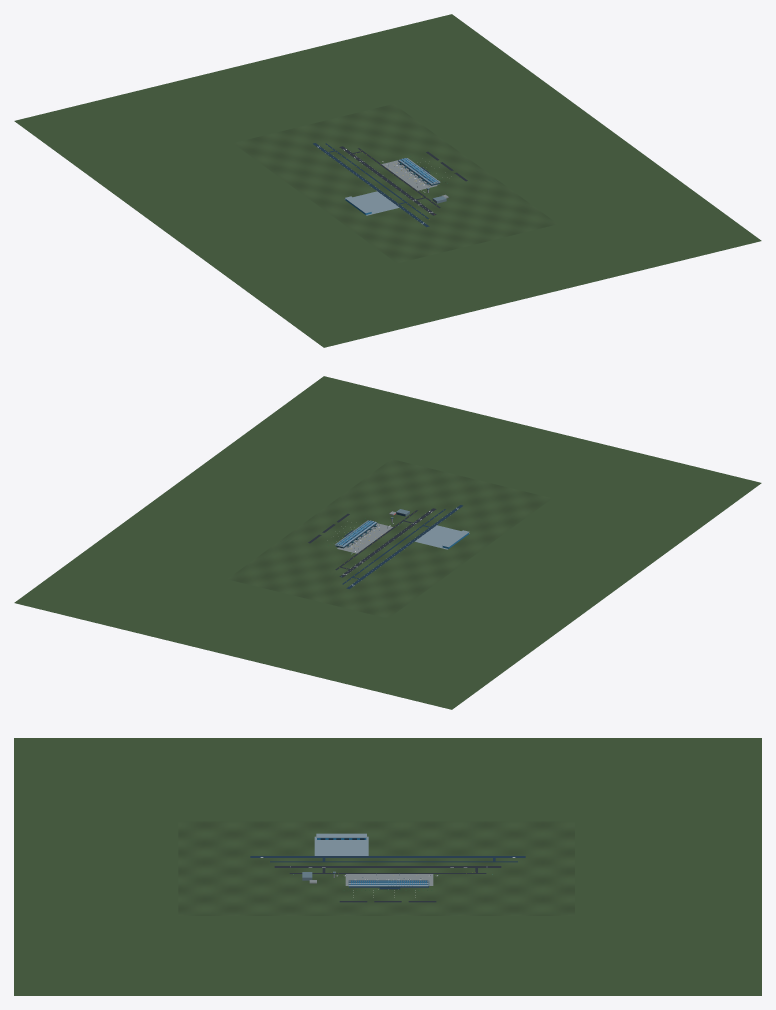
File: aeropredict-airport-v2.glb
3 renders of one model, top to bottom at view 1: azimuth 30°, elevation 25°; view 2: azimuth 150°, elevation 25°; view 3: azimuth 270°, elevation 25°, orthographic. The views are drawn at different scales.
Parts seen in each view (by area): view 1: Airport Meadow, Airport life architecture, Airport Runway asphalt, Airport Apron concrete; view 2: Airport Meadow, Airport life architecture, Airport Runway asphalt, Airport Apron concrete; view 3: Airport Meadow, Airport life architecture, Airport Runway asphalt, Airport Apron concrete.
Boxes of the visible parts, x1,y1,x2,y2 form: Airport Meadow: (14, 14, 761, 347); Airport life architecture: (233, 104, 557, 263); Airport Runway asphalt: (339, 146, 467, 215); Airport Apron concrete: (381, 160, 448, 198); Airport Meadow: (14, 376, 761, 709); Airport life architecture: (227, 459, 551, 618); Airport Runway asphalt: (308, 508, 436, 577); Airport Apron concrete: (335, 511, 395, 553); Airport Meadow: (14, 738, 761, 995); Airport life architecture: (178, 821, 574, 915); Airport Runway asphalt: (274, 866, 501, 902); Airport Apron concrete: (309, 873, 433, 887).
Bounding box in the file's own units: 6200 × 76.48 × 7600.
